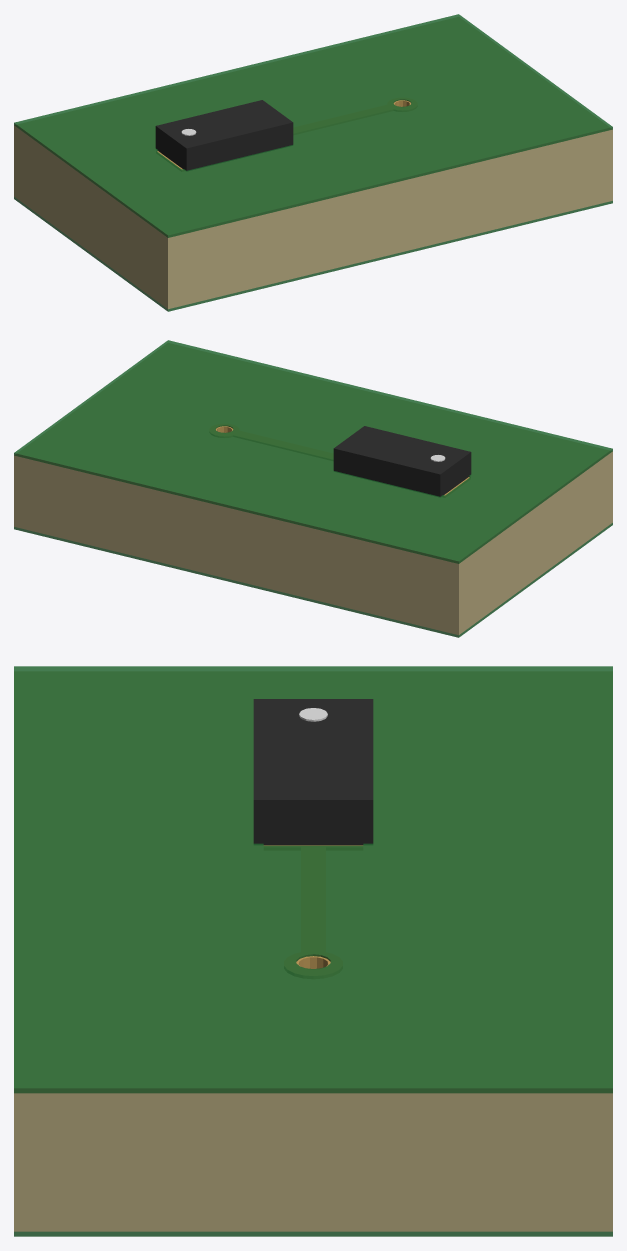
File: minimal-2layer.glb
3 renders of one model, top to bottom at view 1: azimuth 30°, elevation 25°; view 2: azimuth 150°, elevation 25°; view 3: azimuth 270°, elevation 25°, orthographic. The views are drawn at different scales.
Parts seen in each view (by area): view 1: layer/@soldermask-top, layer/@core, R1, layer/@soldermask-bottom; view 2: layer/@soldermask-top, layer/@core, R1, layer/@soldermask-bottom; view 3: layer/@soldermask-top, layer/@core, R1, layer/@soldermask-bottom.
Part boxes in pixels (x1,y1,x2,y2): layer/@soldermask-top: (14, 14, 612, 237); layer/@core: (14, 18, 612, 309); R1: (155, 100, 293, 170); layer/@soldermask-bottom: (14, 197, 612, 311); layer/@soldermask-top: (14, 340, 612, 563); layer/@core: (14, 344, 612, 635); R1: (333, 426, 471, 496); layer/@soldermask-bottom: (14, 523, 612, 637); layer/@soldermask-top: (14, 666, 612, 1093); layer/@core: (14, 672, 612, 1231); R1: (253, 699, 373, 845); layer/@soldermask-bottom: (14, 1231, 612, 1236).
Size of the model in its own units: 0.01 by 0.00214 by 0.006.
